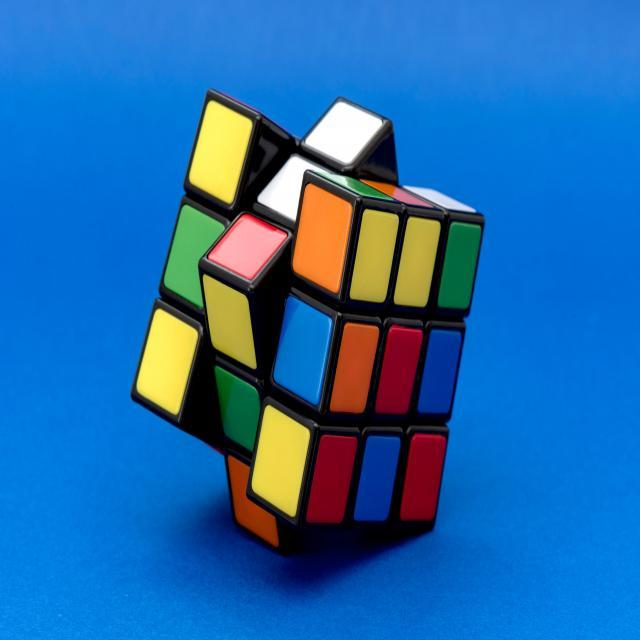Rub: (129, 81, 481, 554)
